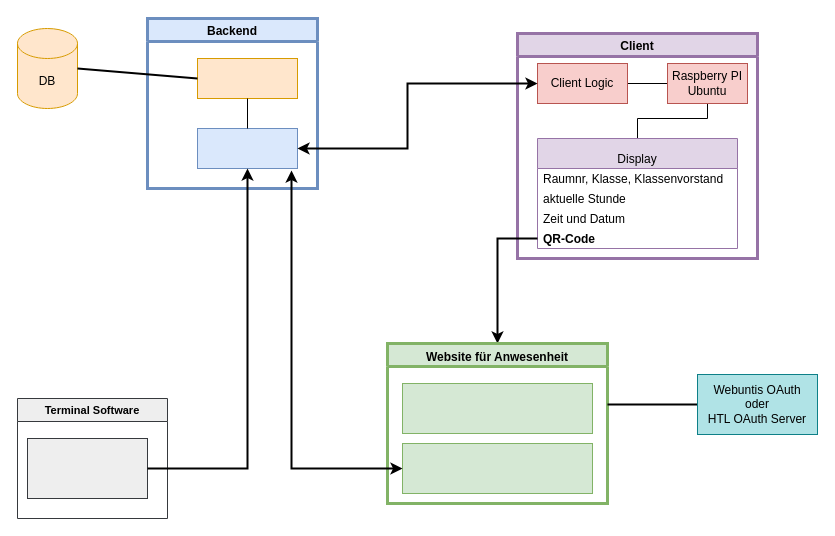
The diagram is 835 pixels wide and 536 high, and some of its shapes have lost their labels. The shapes that lost their labels are listed below. From the top down, each one's centre as x and y in pixels, then its label:
At point 247,78: "Business Logic (BL)".
At point 247,148: "SocketEndpoint".
At point 497,408: "Anmeldung mit Schulaccounts".
At point 87,468: "?? Logic".
At point 497,468: "Anwesend/Abwesend".
